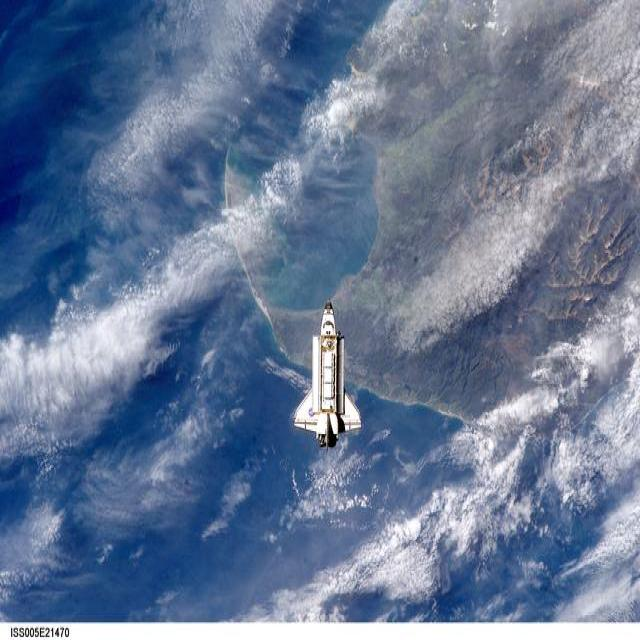satellite: (294, 302, 361, 447)
